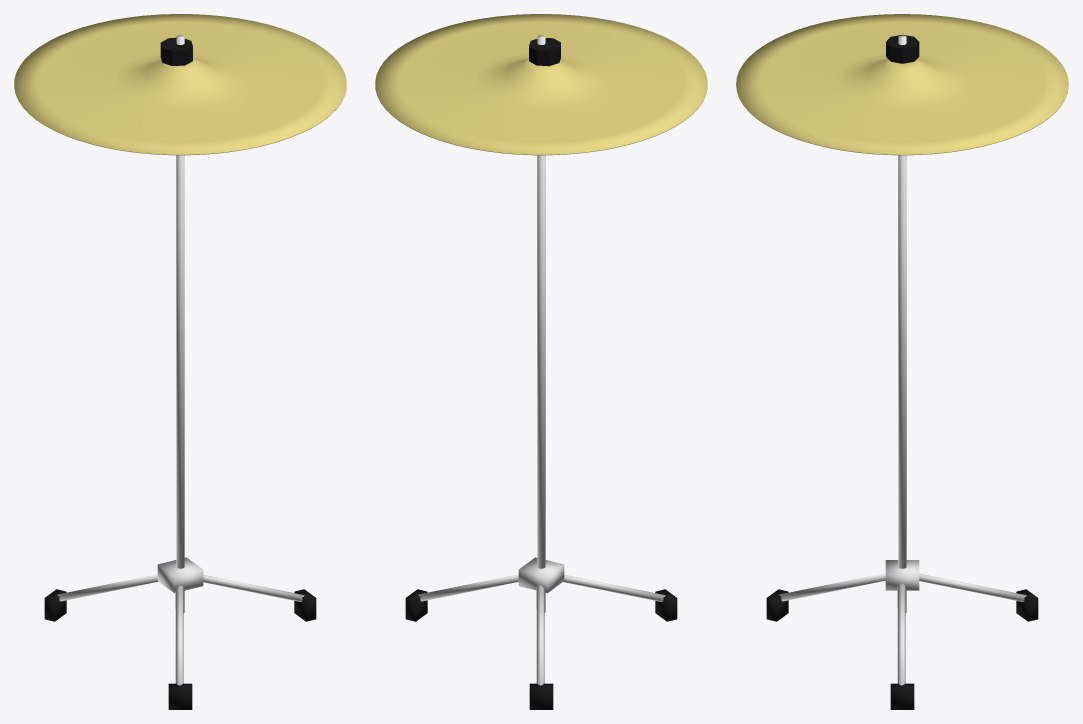
Rendered from Cymbal Model.fbx.
3 renders of one model, left to right at view 1: azimuth 30°, elevation 25°; view 2: azimuth 150°, elevation 25°; view 3: azimuth 270°, elevation 25°, orthographic.
Parts seen in each view (by area): view 1: Cymbal, Floor Stand.002, Cylinder.002, Cube.008, Cylinder.003; view 2: Cymbal, Floor Stand.002, Cylinder.002, Cube.008, Cylinder.003; view 3: Cymbal, Floor Stand.002, Cylinder.002, Cube.008, Cylinder.003.
Part boxes in pixels (box(x1,y1,x2,y2)): Cymbal: box(14, 14, 346, 155); Floor Stand.002: box(44, 574, 316, 709); Cylinder.002: box(176, 35, 184, 612); Cube.008: box(157, 557, 203, 592); Cylinder.003: box(160, 37, 192, 65); Cymbal: box(375, 14, 707, 155); Floor Stand.002: box(405, 574, 677, 709); Cylinder.002: box(537, 35, 545, 612); Cube.008: box(518, 557, 564, 592); Cylinder.003: box(529, 38, 560, 66); Cymbal: box(736, 14, 1068, 155); Floor Stand.002: box(766, 573, 1038, 709); Cylinder.002: box(898, 35, 906, 612); Cube.008: box(885, 560, 919, 590); Cylinder.003: box(886, 34, 919, 63).
Bounding box in the file's own units: 0.4 × 0.8084 × 0.4.
